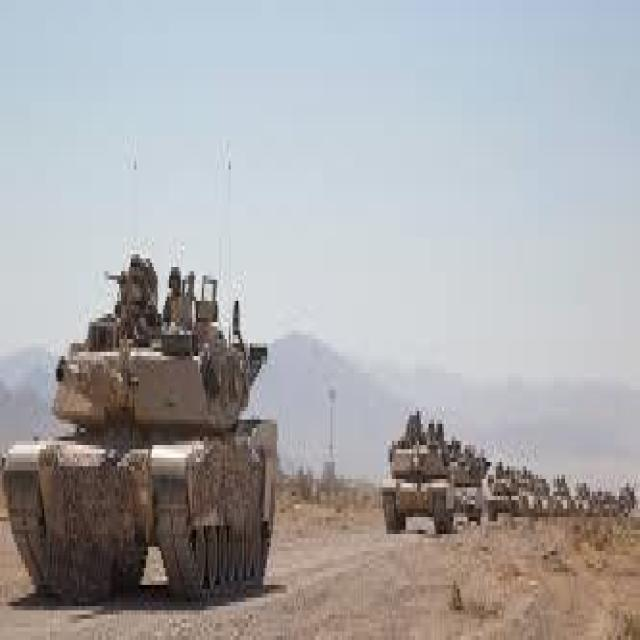Tanks: (3, 256, 280, 608), (368, 407, 453, 542), (449, 432, 485, 530), (487, 454, 520, 522), (515, 458, 538, 526), (548, 475, 571, 521), (572, 479, 591, 517), (536, 471, 550, 517)
